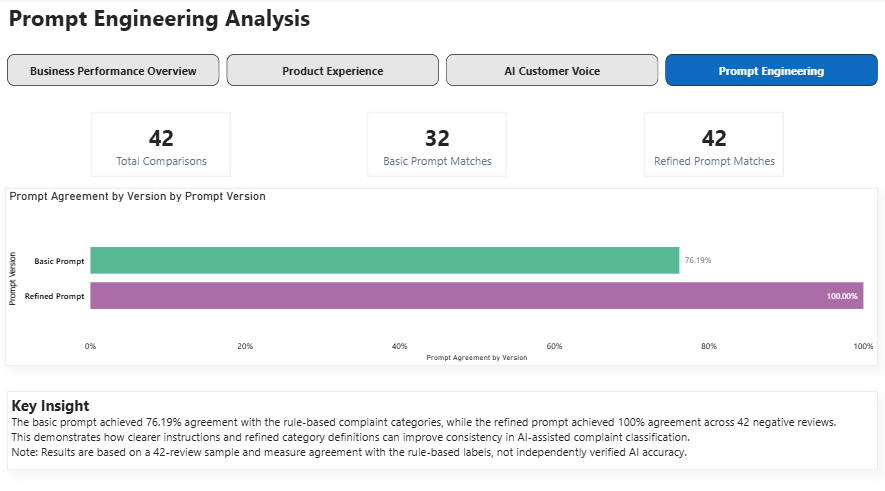

The dashboard page shown, as its layout file describes it:
{"tool":"powerbi","page":{"name":"Prompt Engineering","canvas":[1280,720],"ordinal":3},"visuals":[{"type":"textbox","box":[10.1,0,714.2,54.7],"z":0},{"type":"clusteredBarChart","fields":{"Category":["Prompt Comparison.Prompt Version"],"Y":["Prompt Comparison.Prompt Agreement by Version"]},"box":[10.1,273.6,1257.1,256.3],"z":1000},{"type":"cardVisual","fields":{"Data":["prompt_engineering_comparison.Total Comparisons"]},"box":[133.4,164,201.3,92.7],"z":2000},{"type":"cardVisual","fields":{"Data":["prompt_engineering_comparison.Refined Prompt Matches"]},"box":[929.9,164,201.3,92.7],"z":3000},{"type":"cardVisual","fields":{"Data":["prompt_engineering_comparison.Basic Prompt Matches"]},"box":[531.6,164,201.3,92.7],"z":4000},{"type":"textbox","box":[13,565.9,1254.2,113.8],"z":5000},{"type":"pageNavigator","box":[13,80.6,1254.2,46.1],"z":6000}]}

Visuals, with their boxes in screenshot pixels (x1, y1, x2, y2), scaled from the page's 1280x720 canvas onto the 885x491 screenshot:
textbox: (x1=7, y1=0, x2=501, y2=37)
clusteredBarChart - Prompt Comparison.Prompt Version x Prompt Comparison.Prompt Agreement by Version: (x1=7, y1=187, x2=876, y2=361)
cardVisual - prompt_engineering_comparison.Total Comparisons: (x1=92, y1=112, x2=231, y2=175)
cardVisual - prompt_engineering_comparison.Refined Prompt Matches: (x1=643, y1=112, x2=782, y2=175)
cardVisual - prompt_engineering_comparison.Basic Prompt Matches: (x1=368, y1=112, x2=507, y2=175)
textbox: (x1=9, y1=386, x2=876, y2=464)
pageNavigator: (x1=9, y1=55, x2=876, y2=86)
